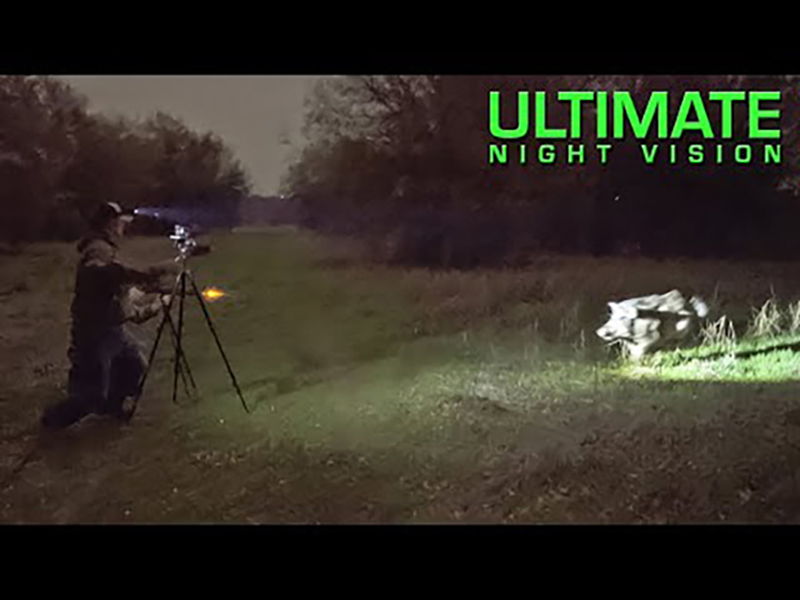cacciatore: (65, 196, 189, 433)
cinghiale: (592, 296, 718, 380)
